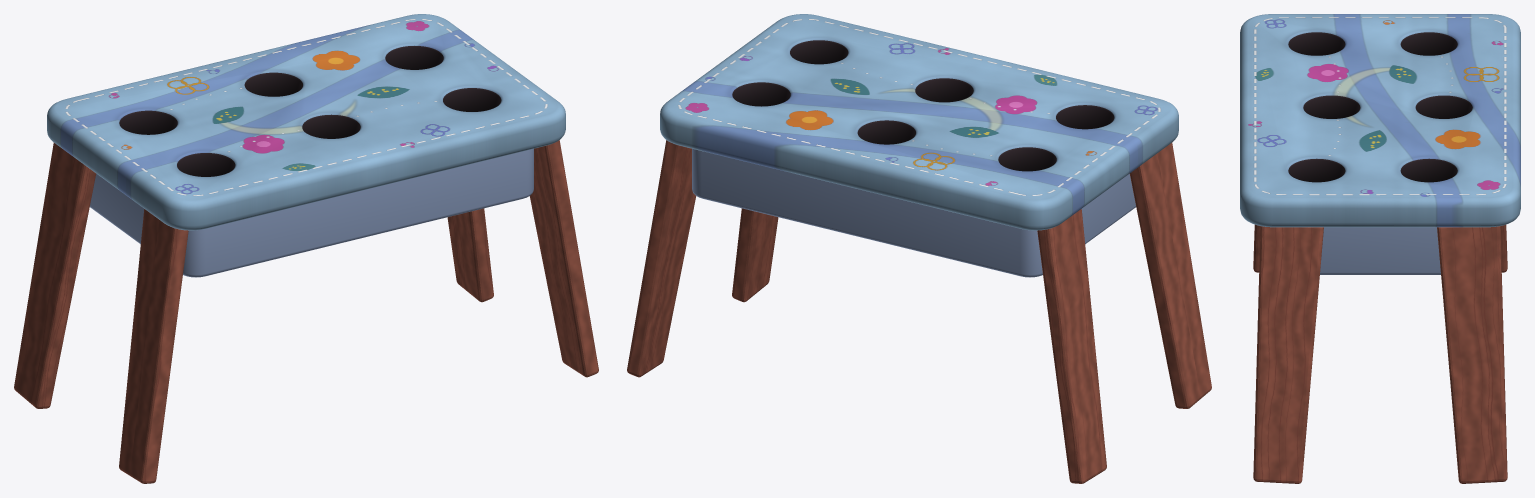
Rendered from WhackTable.glb.
3 renders of one model, left to right at view 1: azimuth 30°, elevation 25°; view 2: azimuth 150°, elevation 25°; view 3: azimuth 270°, elevation 25°, orthographic. The views are drawn at different scales.
Visible parts, largest first — view 1: WhackTable_Top, WhackTable_Apron, WhackTable_Leg_LF, WhackTable_Leg_LB, WhackTable_Leg_RF, WhackTable_Leg_RB; view 2: WhackTable_Top, WhackTable_Apron, WhackTable_Leg_LB, WhackTable_Leg_LF, WhackTable_Leg_RB, WhackTable_Leg_RF; view 3: WhackTable_Top, WhackTable_Leg_RB, WhackTable_Leg_RF, WhackTable_Apron, WhackTable_Leg_LB, WhackTable_Leg_LF.
Part boxes in pixels (x1,y1,x2,y2): WhackTable_Top: (47,14,565,230); WhackTable_Apron: (89,148,533,277); WhackTable_Leg_LF: (119,209,188,483); WhackTable_Leg_LB: (14,142,96,408); WhackTable_Leg_RF: (529,140,598,377); WhackTable_Leg_RB: (447,208,493,302); WhackTable_Top: (660,14,1178,230); WhackTable_Apron: (692,148,1136,277); WhackTable_Leg_LB: (1037,209,1106,483); WhackTable_Leg_LF: (1129,142,1211,408); WhackTable_Leg_RB: (627,140,696,377); WhackTable_Leg_RF: (732,208,778,302); WhackTable_Top: (1240,14,1520,227); WhackTable_Leg_RB: (1437,226,1507,483); WhackTable_Leg_RF: (1253,226,1323,483); WhackTable_Apron: (1320,227,1440,274); WhackTable_Leg_LB: (1500,224,1507,272); WhackTable_Leg_LF: (1253,224,1260,272).
Size of the model in its own units: 1.38 by 0.7999 by 0.75.
Materials: 5 (3 with a texture image).
